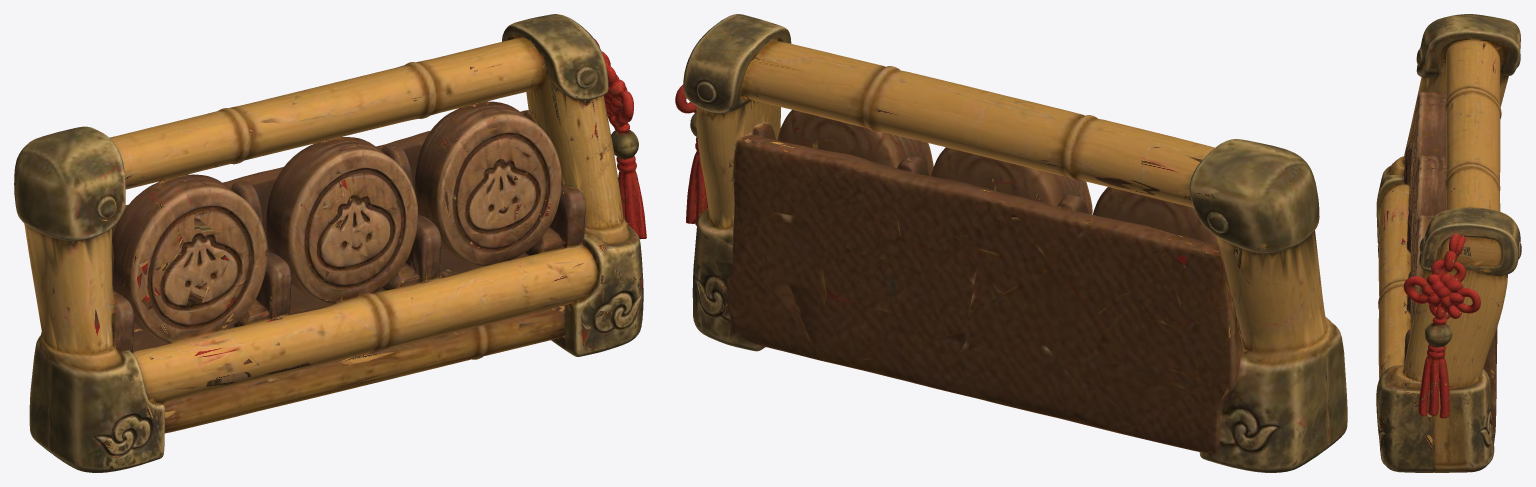
The model's file is orchestrator.glb.
The picture shows the model from 3 angles, left to right: view 1: azimuth 30°, elevation 25°; view 2: azimuth 150°, elevation 25°; view 3: azimuth 270°, elevation 25°; orthographic projection. The views are drawn at different scales.
Size of the model in its own units: 1.9 by 0.8891 by 0.4772.
Materials: 1 (1 with a texture image).
